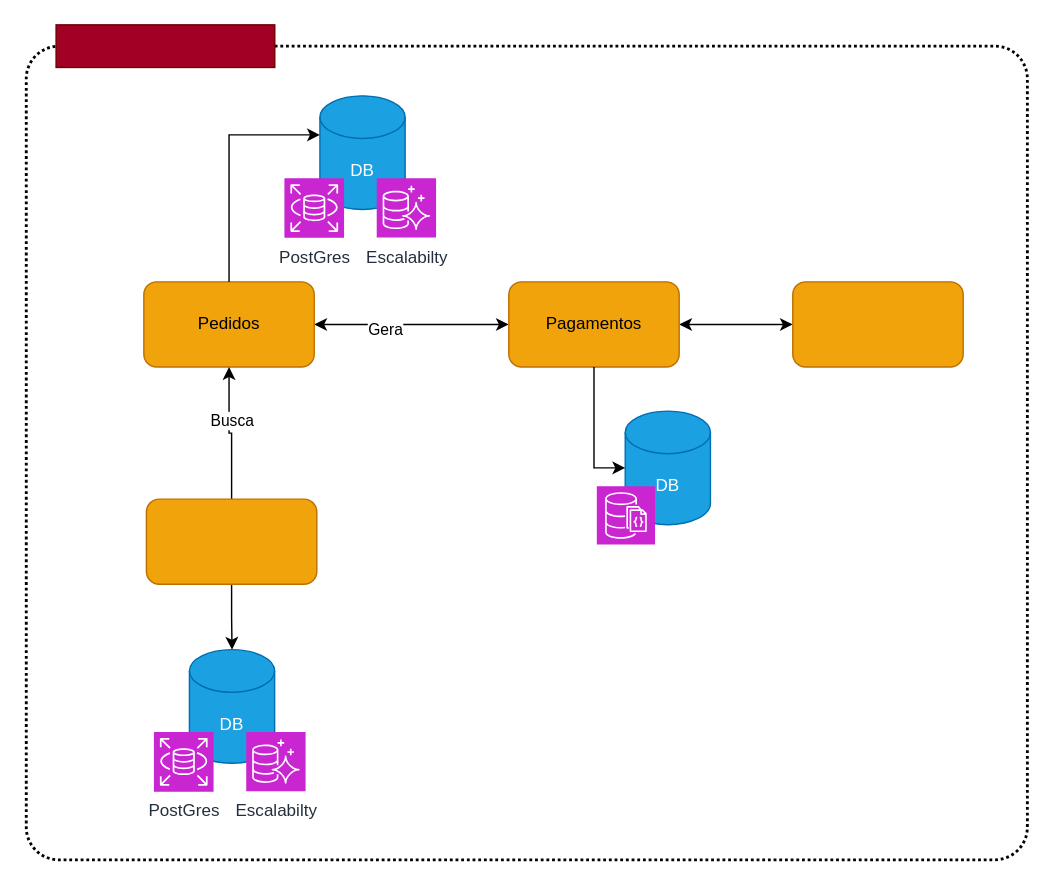
This 1052x886 diagram has some shape labels left out. Each missing label, with the centre of its shape:
Componentes da aplicação: [165,45]
DocumentDB: [625,515]
Entrega: [231,541]
Mercado Pago: [877,323]
